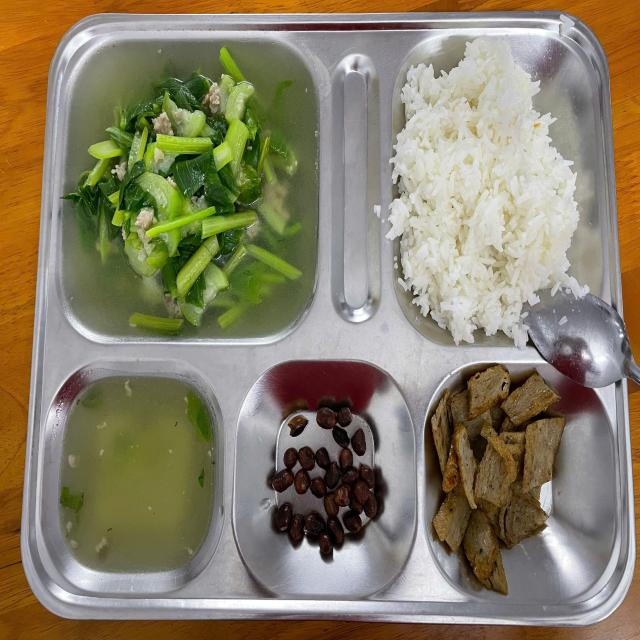canhmuop: (66, 50, 315, 324)
chaca: (431, 367, 567, 592)
dauphong: (266, 399, 392, 579)
salad: (391, 42, 577, 326)
